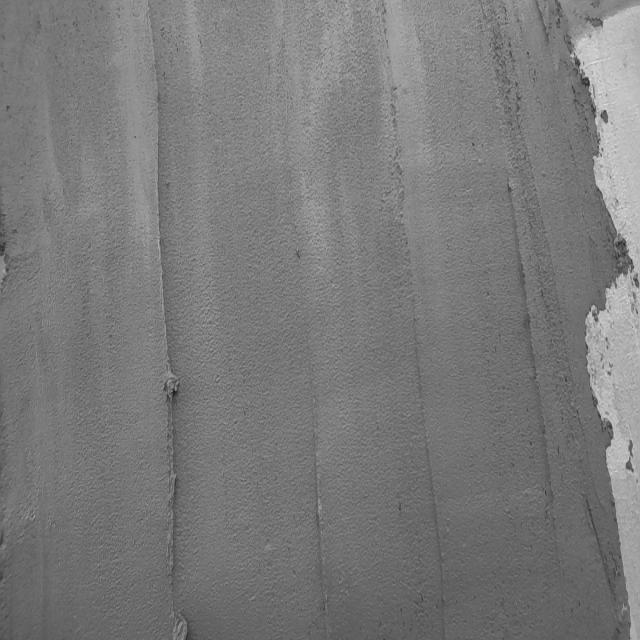trowels marks: (150, 12, 192, 640), (509, 180, 563, 569), (415, 324, 454, 640), (310, 383, 338, 640)
